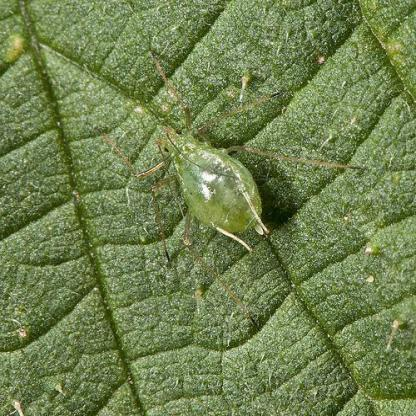aphid: (136, 95, 282, 244)
